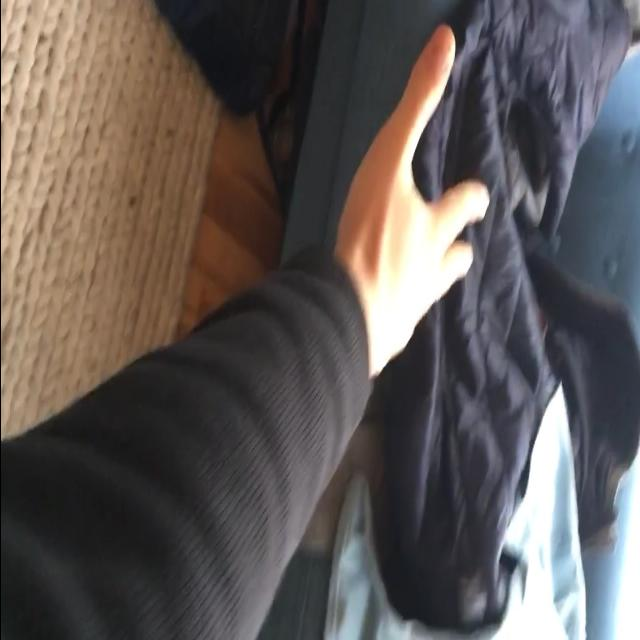Paper: (336, 25, 489, 364)
